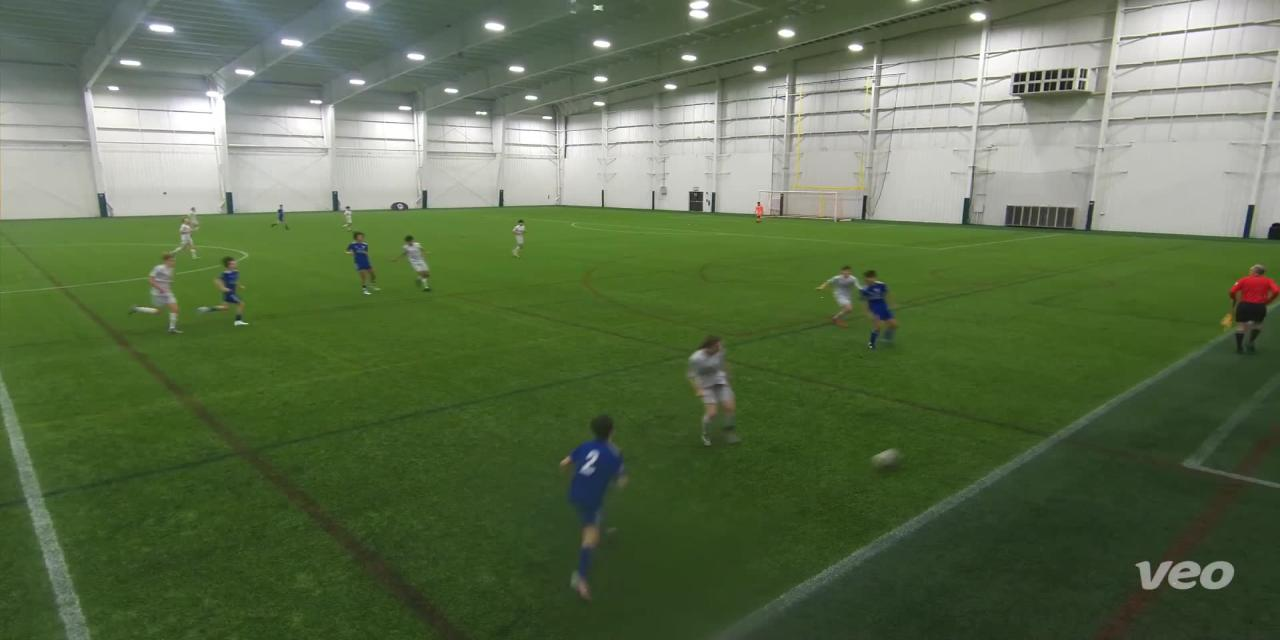goal: (753, 188, 857, 226)
sports ball: (872, 442, 904, 475)
